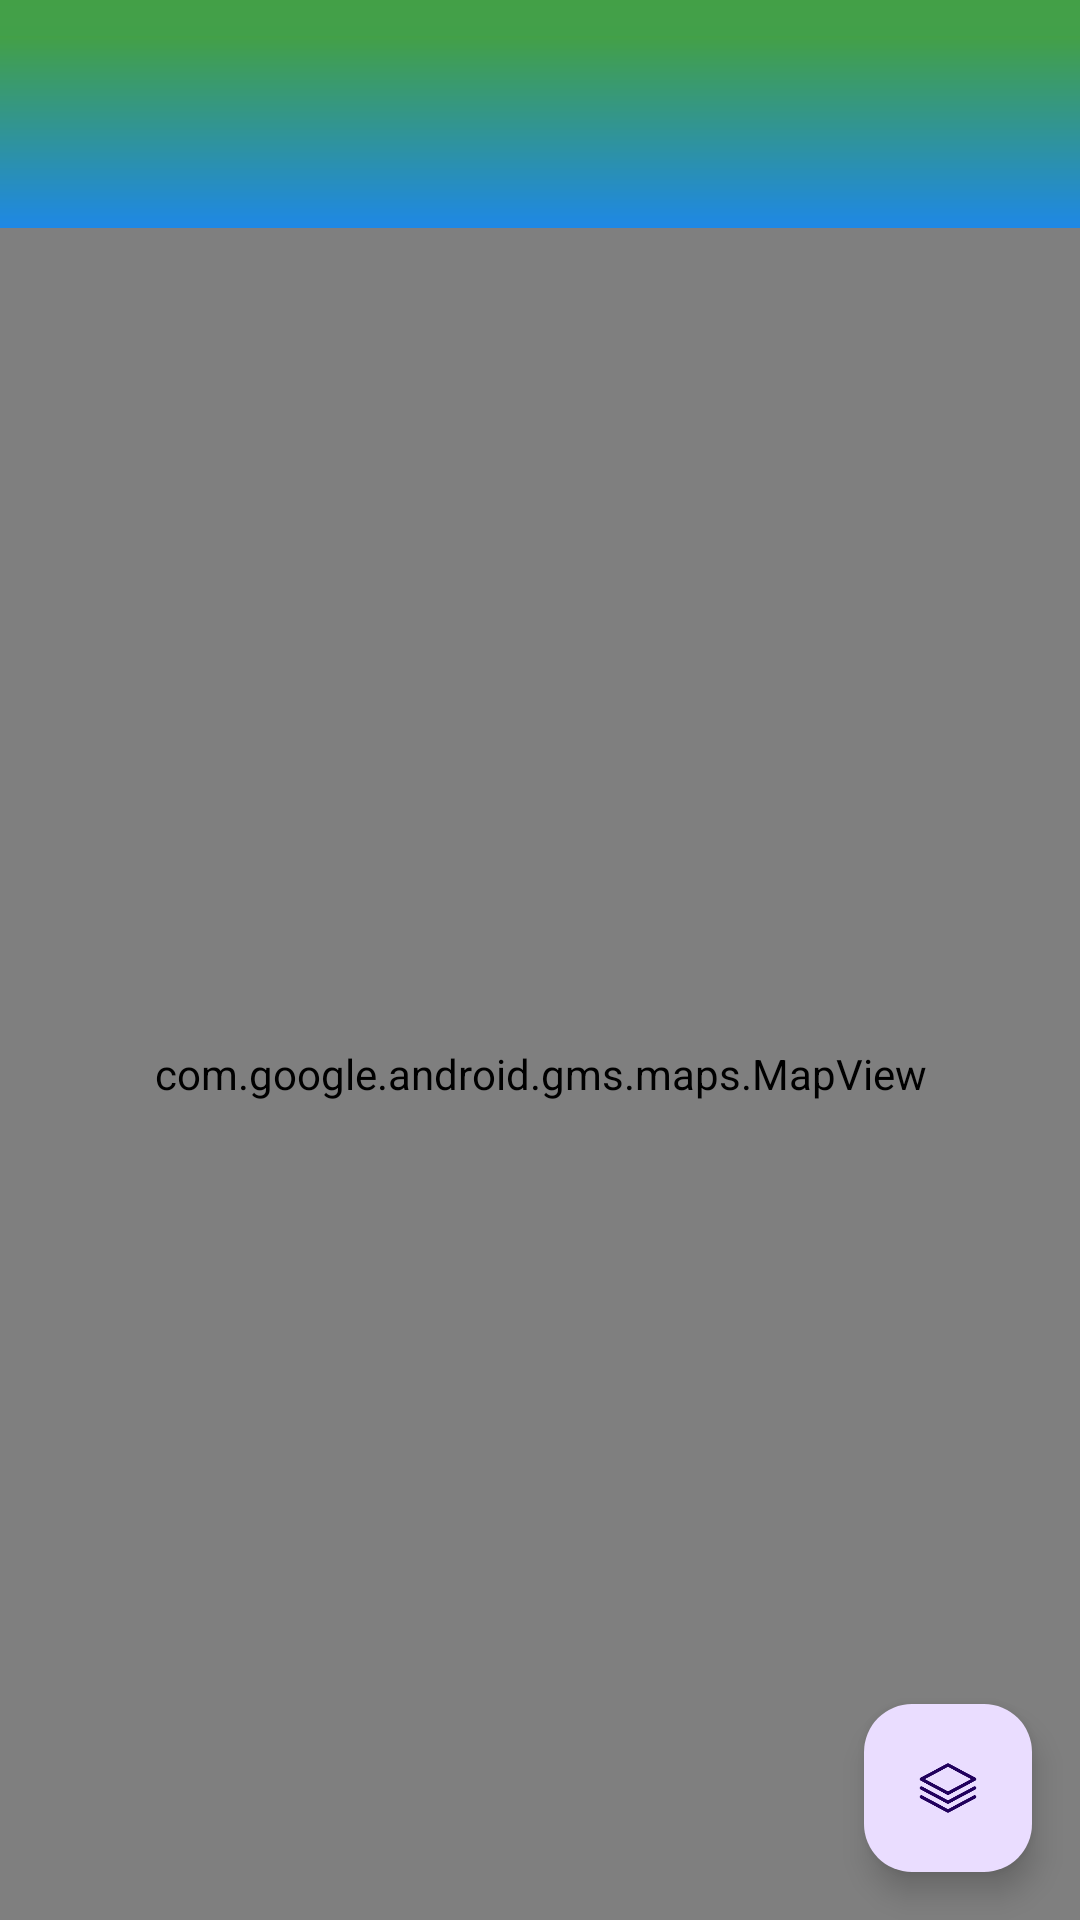

Icon click points for this 1080 × 1920 phone screenshot, format point (x, y):
Change Map Type: point (948, 1788)
